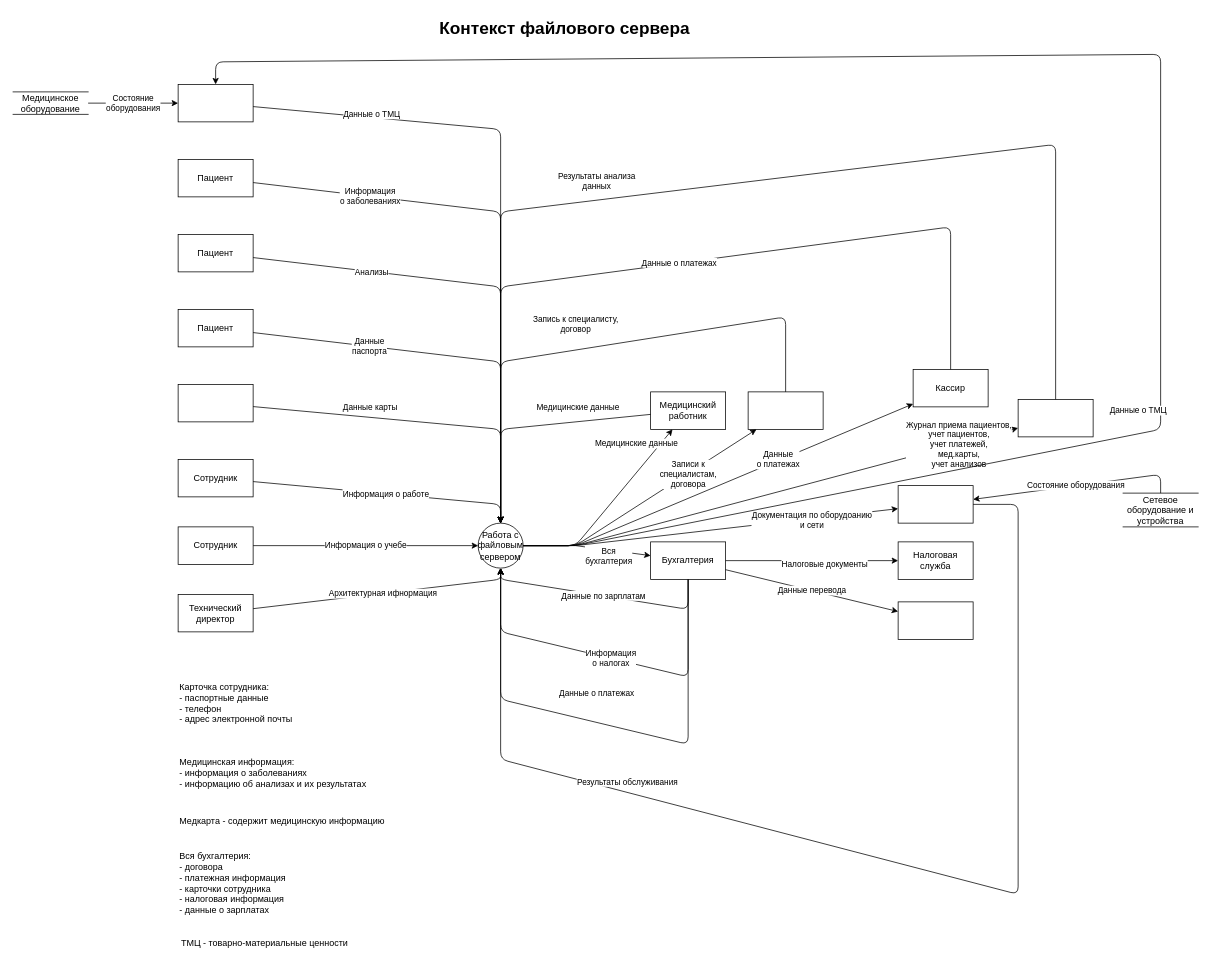
This 1211x967 diagram has some shape labels left out. Here are the shapes that lost their labels. From the top down, the box of each, then its label:
(177, 84, 253, 122): Сотрудник ТМЦ
(177, 384, 253, 422): Плательщик
(747, 391, 823, 429): Ресепшн
(1017, 399, 1093, 437): Бизнес аналитик
(897, 485, 973, 523): Администратор сети
(897, 601, 973, 639): Зарплатый счет сотрудника
